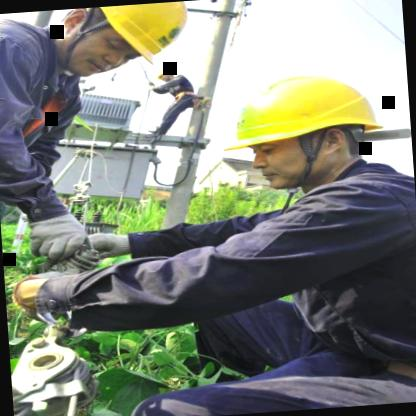helmet: (203, 57, 403, 198), (48, 0, 202, 78), (153, 68, 177, 83)
